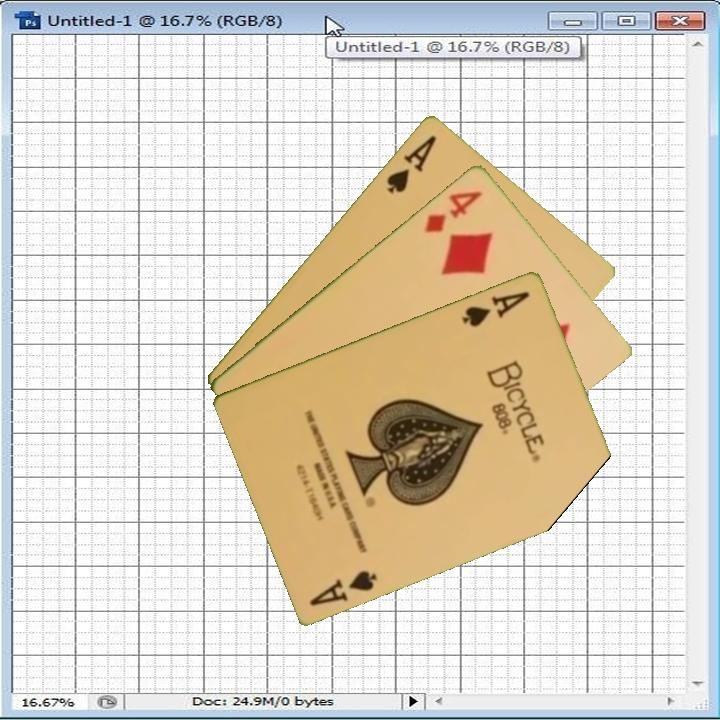4d: (421, 186, 485, 236)
As: (382, 130, 439, 197), (458, 287, 533, 330), (306, 566, 381, 608)
